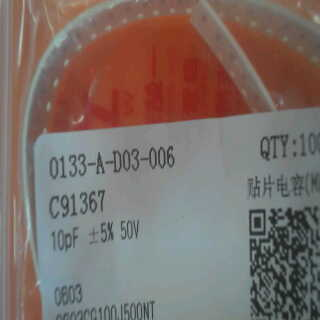10pF: (40, 221, 82, 256)
